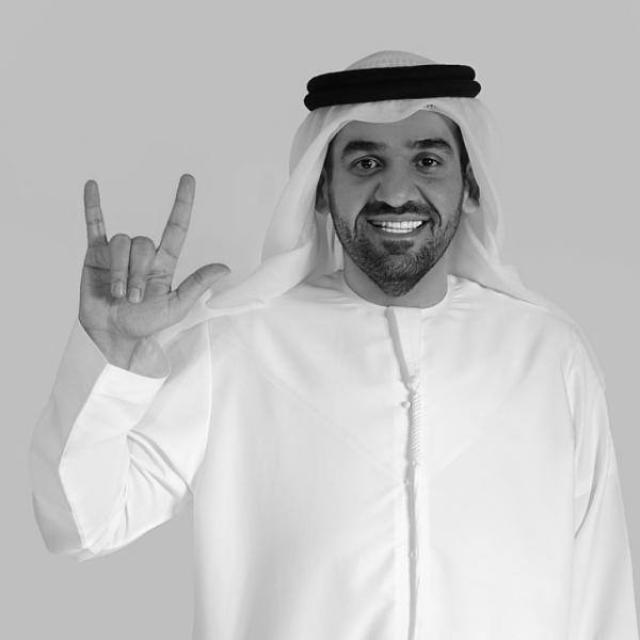i love you: (71, 166, 237, 364)
